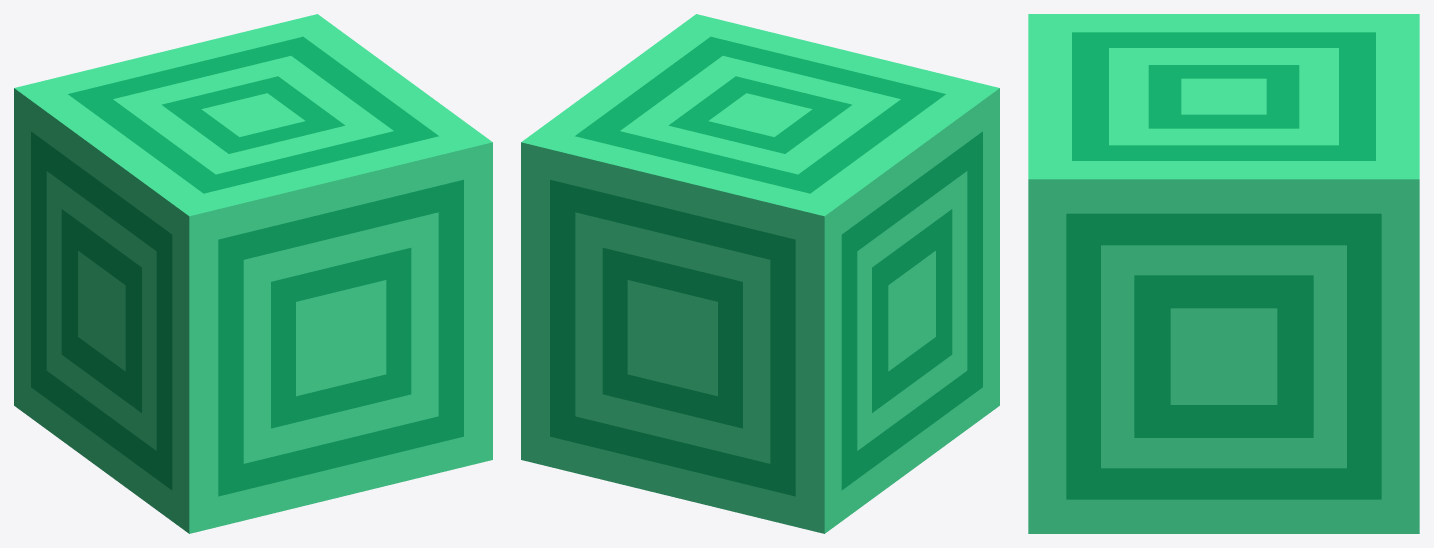
File: spaceCube.fbx
The picture shows the model from 3 angles, left to right: view 1: azimuth 30°, elevation 25°; view 2: azimuth 150°, elevation 25°; view 3: azimuth 270°, elevation 25°; orthographic projection. The views are drawn at different scales.
Parts seen in each view (by area): view 1: spaceCube; view 2: spaceCube; view 3: spaceCube.
Boxes of the visible parts, x1,y1,x2,y2 form: spaceCube: (14, 14, 492, 533); spaceCube: (521, 14, 999, 533); spaceCube: (1028, 14, 1419, 533).
Size of the model in its own units: 2 by 2 by 2.
